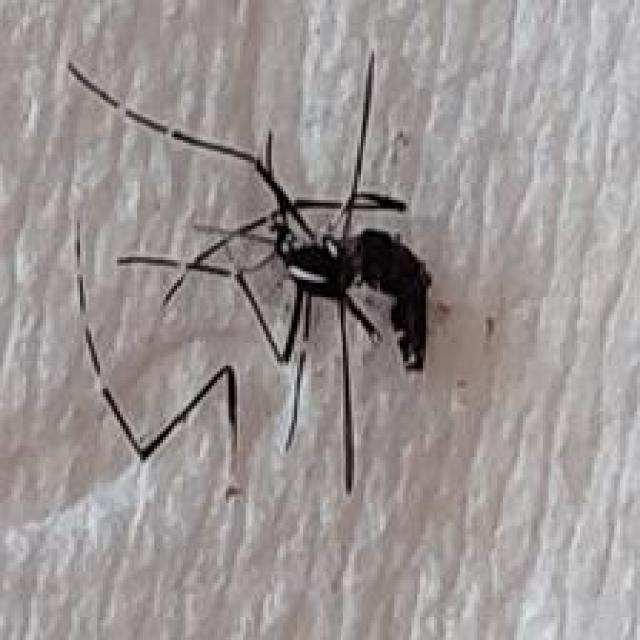Aedes albopictus: (66, 49, 434, 497)
